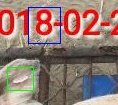text: (7, 67, 33, 90)
